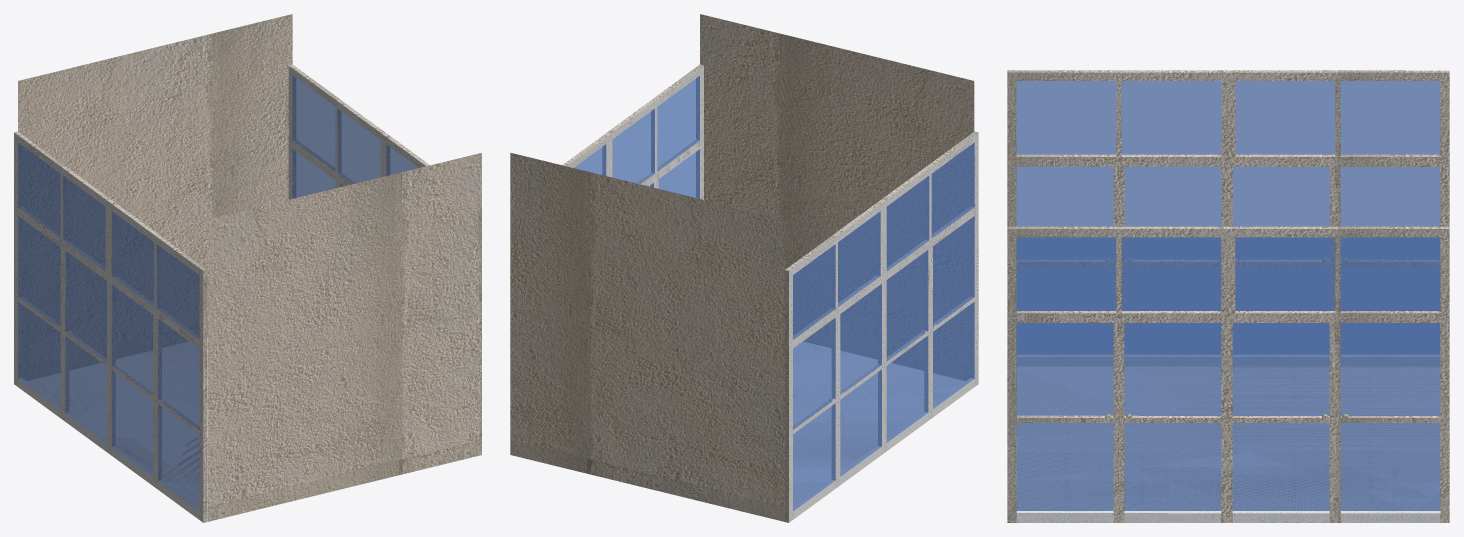
Rendered from COM001.obj.
3 renders of one model, left to right at view 1: azimuth 30°, elevation 25°; view 2: azimuth 150°, elevation 25°; view 3: azimuth 270°, elevation 25°, orthographic. The views are drawn at different scales.
Visible parts, largest first — view 1: Mesh13 COM001 Model, Mesh7 p16_2 COM001 Model, Mesh1 p16_1 COM001 Model; view 2: Mesh13 COM001 Model, Mesh7 p16_2 COM001 Model, Mesh1 p16_1 COM001 Model; view 3: Mesh1 p16_1 COM001 Model, Mesh7 p16_2 COM001 Model, Mesh13 COM001 Model.
Boxes of the visible parts, x1=… form: Mesh13 COM001 Model: x1=18, y1=14, x2=481, y2=521; Mesh7 p16_2 COM001 Model: x1=14, y1=131, x2=207, y2=522; Mesh1 p16_1 COM001 Model: x1=288, y1=64, x2=481, y2=455; Mesh13 COM001 Model: x1=510, y1=14, x2=974, y2=521; Mesh7 p16_2 COM001 Model: x1=785, y1=131, x2=978, y2=522; Mesh1 p16_1 COM001 Model: x1=510, y1=64, x2=703, y2=447; Mesh1 p16_1 COM001 Model: x1=1007, y1=226, x2=1449, y2=522; Mesh7 p16_2 COM001 Model: x1=1007, y1=70, x2=1449, y2=366; Mesh13 COM001 Model: x1=1017, y1=367, x2=1439, y2=510.
Bounding box in the file's own units: 3.47 × 3.6 × 4.09.
Materials: 7 (2 with a texture image).
